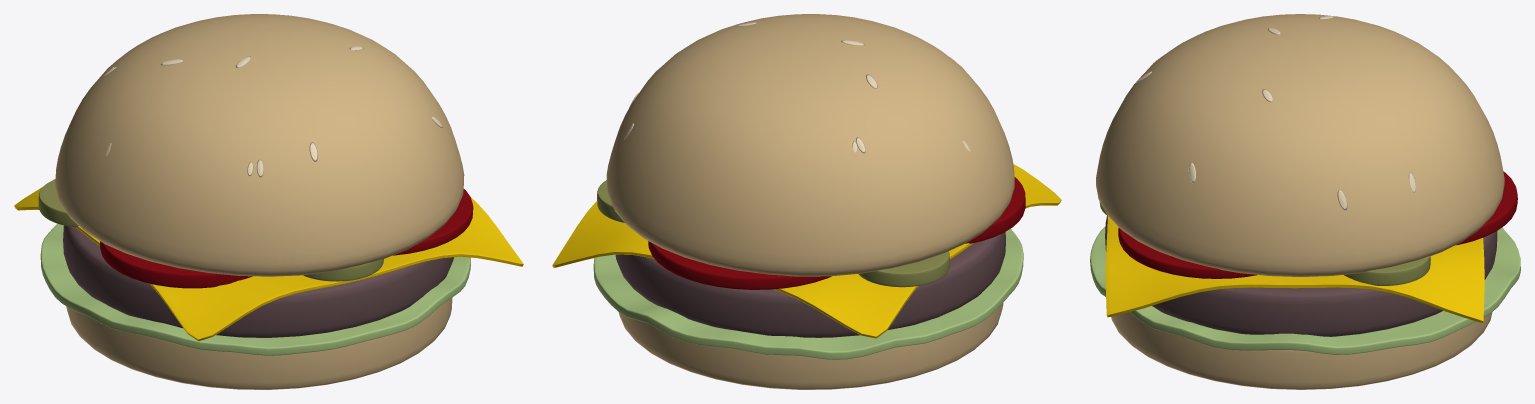
Rendered from Burger_Completed.fbx.
3 renders of one model, left to right at view 1: azimuth 30°, elevation 25°; view 2: azimuth 150°, elevation 25°; view 3: azimuth 270°, elevation 25°, orthographic.
Visible parts, largest first — view 1: pCylinder36; view 2: pCylinder36; view 3: pCylinder36.
Boxes of the visible parts, x1=… form: pCylinder36: x1=14, y1=14, x2=523, y2=389; pCylinder36: x1=552, y1=14, x2=1061, y2=389; pCylinder36: x1=1090, y1=14, x2=1520, y2=389.
Bounding box in the file's own units: 4.14 × 2.82 × 4.13.
